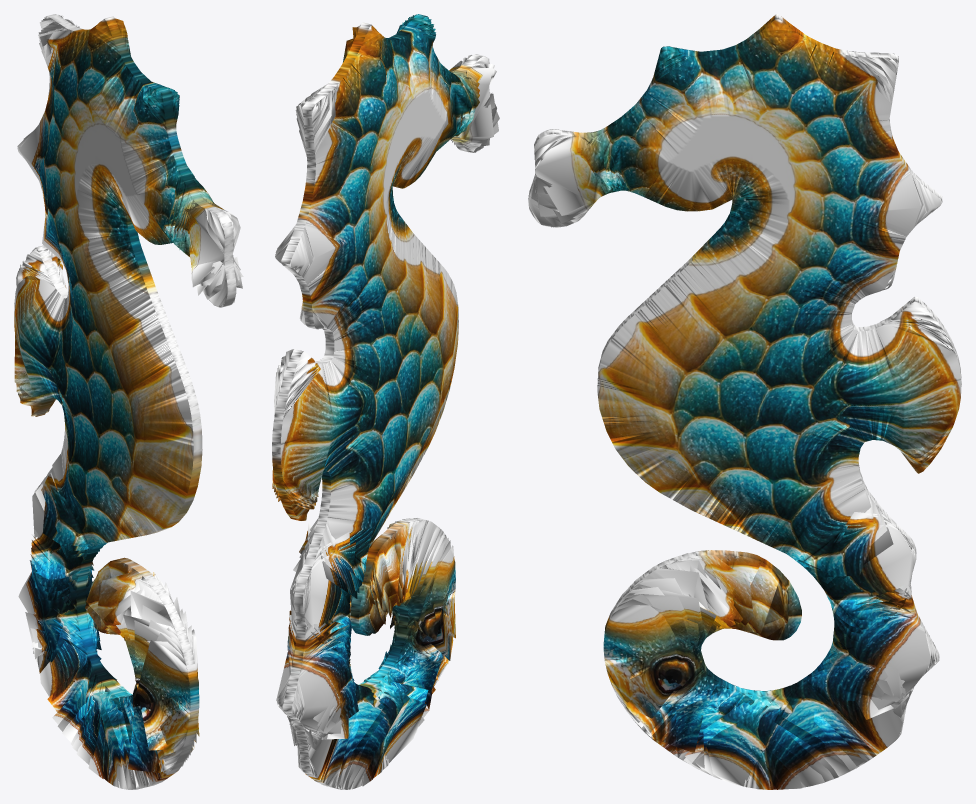
File: seahorse.glb
3 renders of one model, left to right at view 1: azimuth 30°, elevation 25°; view 2: azimuth 150°, elevation 25°; view 3: azimuth 270°, elevation 25°, orthographic. The views are drawn at different scales.
Visible parts, largest first — view 1: seahorse; view 2: seahorse; view 3: seahorse.
Boxes of the visible parts, box(x1,y1,x2,y2) form: seahorse: box(14, 14, 243, 789); seahorse: box(272, 14, 499, 789); seahorse: box(528, 14, 961, 789).
Size of the model in its own units: 0.14 by 1.97 by 0.9998.
Materials: 1 (1 with a texture image).
